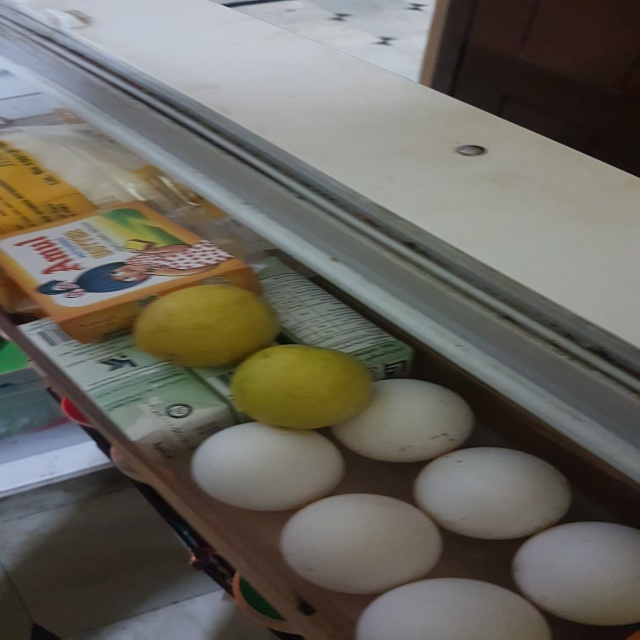butter: (1, 198, 266, 333)
eggs: (273, 484, 451, 597), (407, 437, 574, 544), (179, 417, 355, 513), (322, 367, 478, 474), (352, 568, 557, 639), (512, 518, 635, 633)
lemon: (217, 338, 385, 437), (133, 281, 286, 373)
